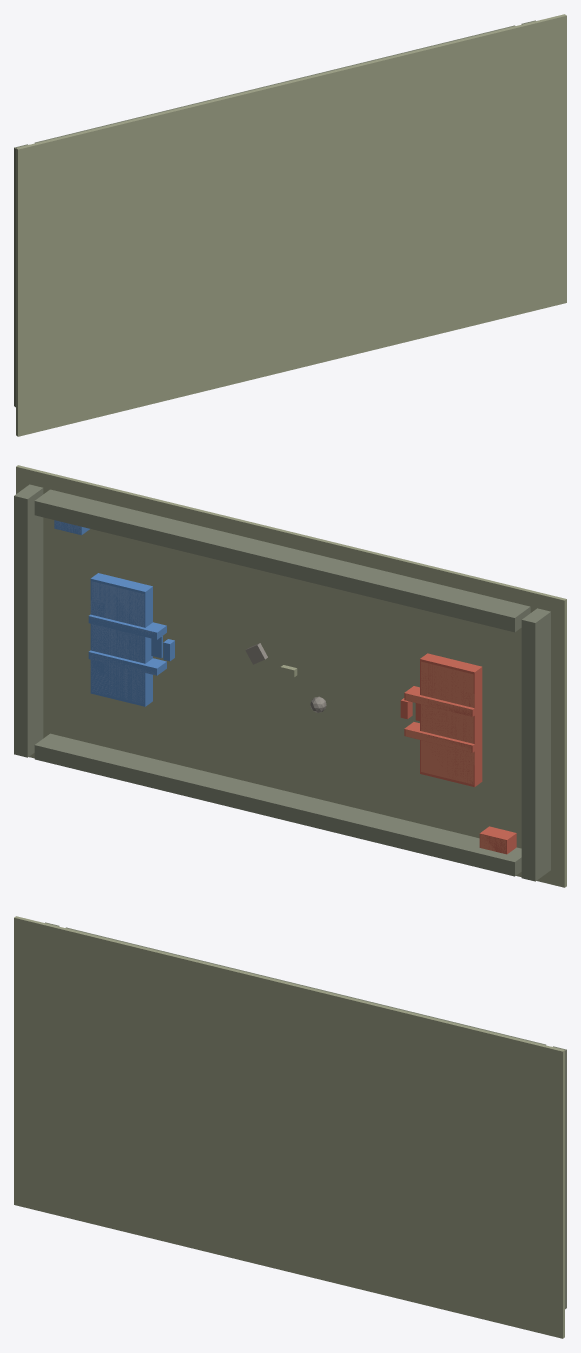
File: blood_gulch.gltf
The picture shows the model from 3 angles, top to bottom: view 1: azimuth 30°, elevation 25°; view 2: azimuth 150°, elevation 25°; view 3: azimuth 330°, elevation 25°; orthographic projection.
Visible parts, largest first — view 1: struct_1; view 2: struct_1; view 3: struct_1.
Boxes of the visible parts, <box> form: struct_1: <box>14,14,566,436</box>; struct_1: <box>14,465,566,887</box>; struct_1: <box>14,916,566,1338</box>.
Bounding box in the file's own units: 80 × 40 × 4.5.
